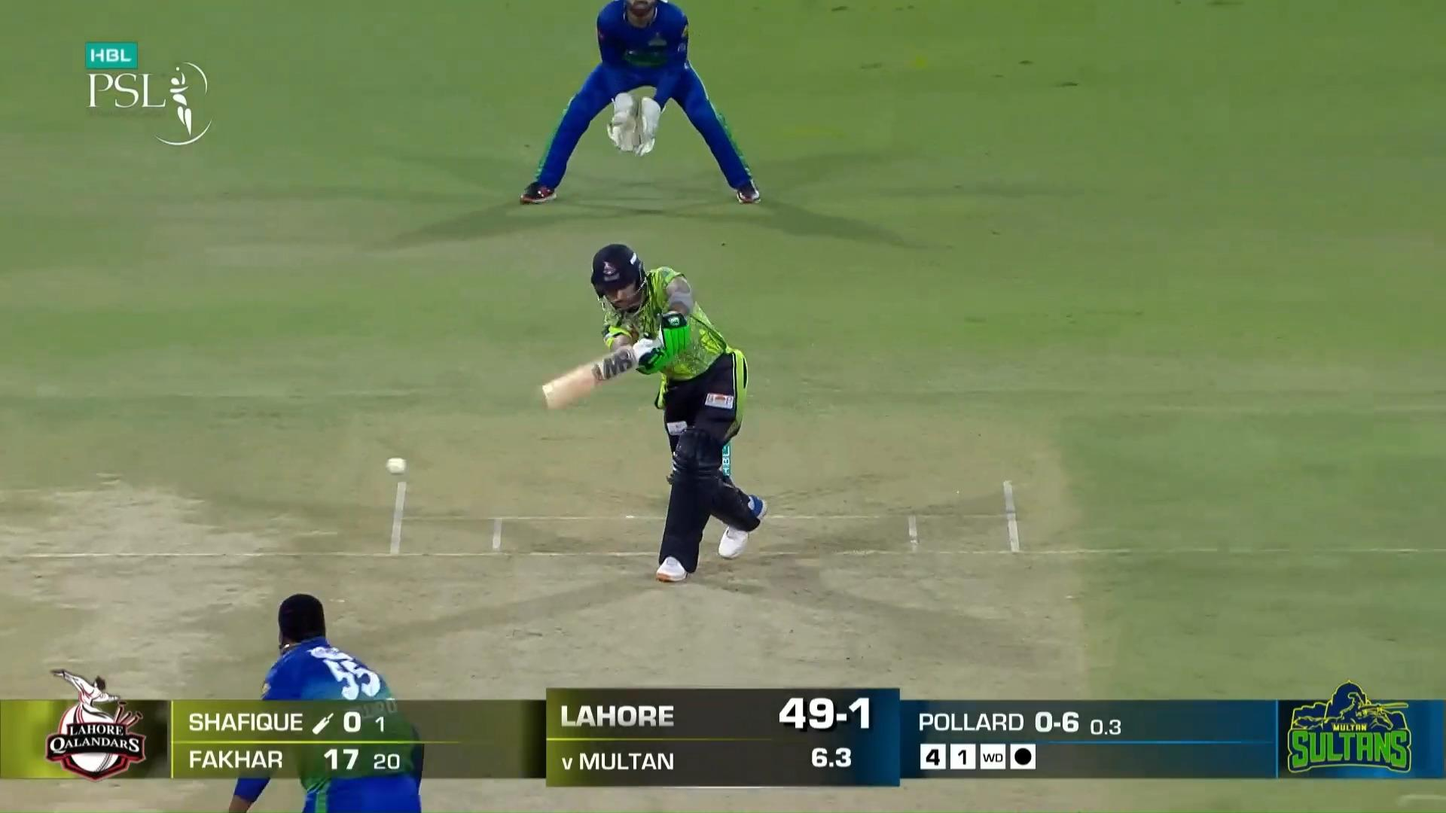batsman: (542, 242, 768, 584)
